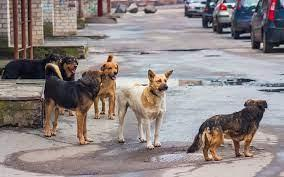normal_dogs: (189, 92, 268, 166), (42, 60, 102, 145), (118, 66, 174, 148), (1, 51, 81, 90), (82, 58, 122, 120)
